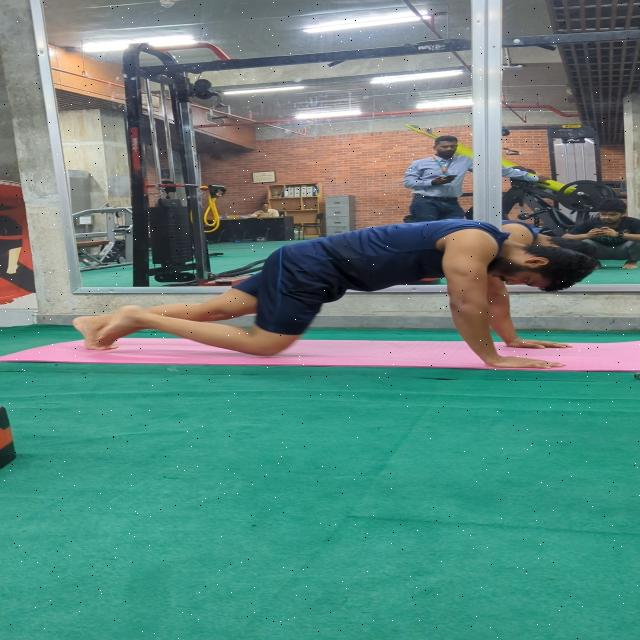Normal_MountainClimbers: (16, 189, 624, 405)
